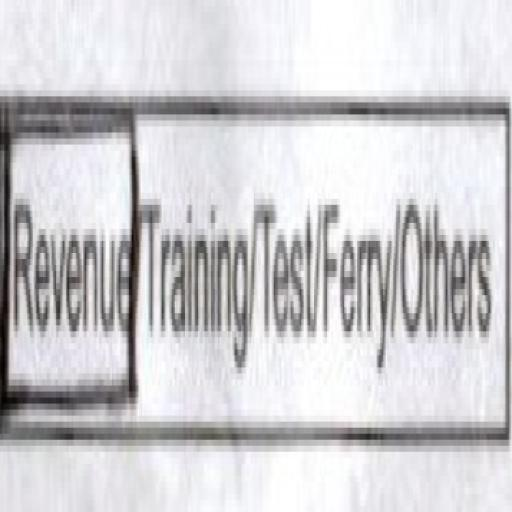check: (0, 56, 140, 512)
